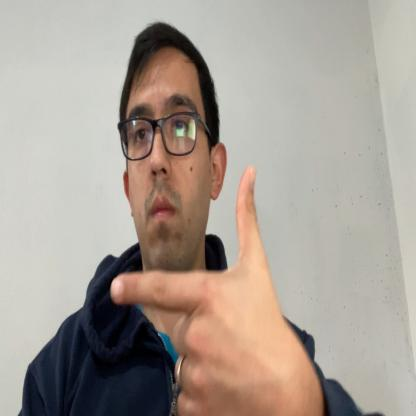G: (111, 165, 302, 415)
